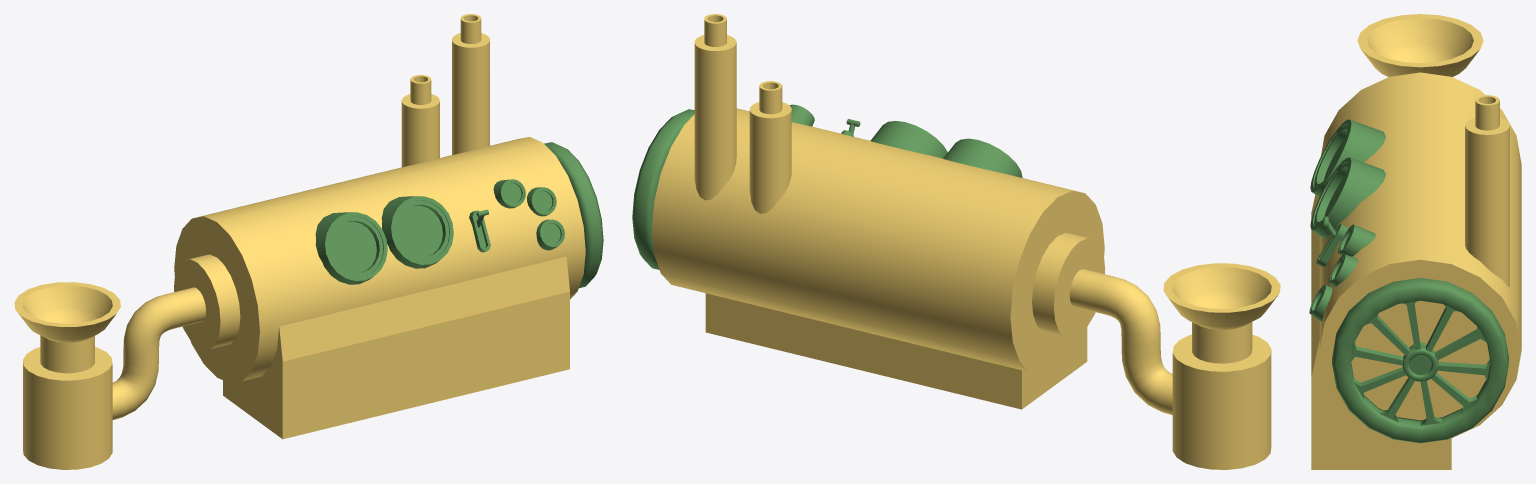
File: Mesh_WorldDecor_Engine_1.fbx
3 views of the same model, side by side, from view 1: azimuth 30°, elevation 25°; view 2: azimuth 150°, elevation 25°; view 3: azimuth 270°, elevation 25° (orthographic). The views are drawn at different scales.
Visible parts, largest first — view 1: pCylinder43, pCube46, pCylinder104, pCylinder54, pCylinder55, pCylinder45, pCylinder99, pCylinder103, pCylinder49, pCylinder102, pCylinder101, pCylinder100; view 2: pCylinder43, pCylinder104, pCube46, pCylinder55, pCylinder54, pCylinder103, pCylinder49, pCylinder45, pCylinder99; view 3: pCylinder43, pCylinder49, pCube46, pCylinder55, pCylinder104, pCylinder99, pCylinder45, pCylinder102, pCylinder100, pCylinder101, pCube49, pCylinder48.
Part boxes in pixels (box(x1,y1,x2,y2)): pCylinder43: box(174, 137, 585, 383); pCube46: box(223, 256, 569, 439); pCylinder104: box(14, 282, 120, 469); pCylinder54: box(112, 287, 205, 419); pCylinder55: box(452, 14, 489, 154); pCylinder45: box(315, 212, 387, 284); pCylinder99: box(381, 196, 453, 268); pCylinder103: box(401, 75, 439, 167); pCylinder49: box(544, 142, 603, 288); pCylinder102: box(493, 179, 525, 208); pCylinder101: box(536, 219, 564, 250); pCylinder100: box(527, 187, 556, 216); pCylinder43: box(652, 108, 1105, 374); pCylinder104: box(1163, 263, 1280, 469); pCube46: box(705, 293, 1087, 409); pCylinder55: box(694, 14, 736, 200); pCylinder54: box(1069, 269, 1172, 415); pCylinder103: box(749, 81, 791, 213); pCylinder49: box(632, 109, 694, 269); pCylinder45: box(943, 138, 1022, 177); pCylinder99: box(870, 121, 947, 158); pCylinder43: box(1319, 72, 1521, 438); pCylinder49: box(1332, 278, 1508, 443); pCube46: box(1311, 195, 1451, 469); pCylinder55: box(1465, 95, 1509, 286); pCylinder104: box(1357, 14, 1483, 77); pCylinder99: box(1310, 157, 1385, 238); pCylinder45: box(1310, 119, 1385, 197); pCylinder102: box(1338, 224, 1375, 256); pCylinder100: box(1329, 254, 1357, 286); pCylinder101: box(1309, 285, 1332, 321); pCube49: box(1316, 223, 1348, 267); pCylinder48: box(1409, 342, 1431, 375).
Bounding box in the file's own units: 443 × 237 × 126.
